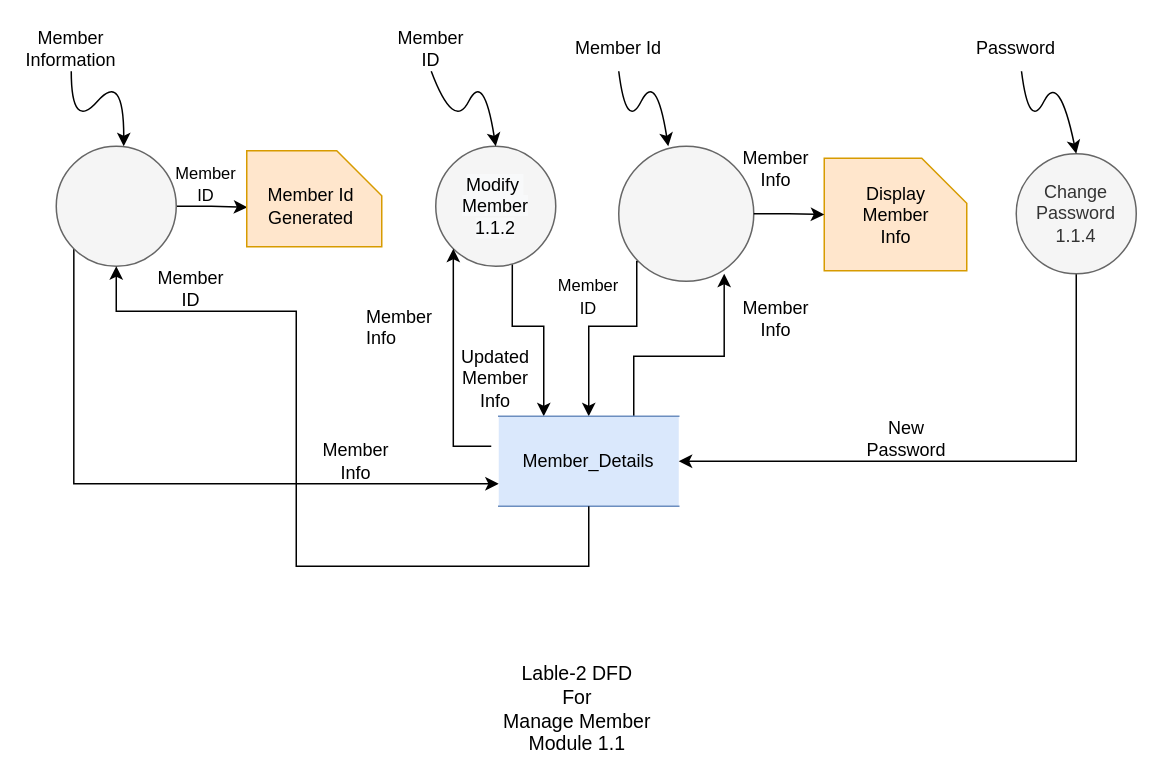
This 1163x780 diagram has some shape labels left out. The shapes that lost their labels are listed below. From the top down, each one's box as (x1, y1, x2, y2) in pixels, then its label:
(55, 145, 176, 266): Add Member 1.1.1
(617, 145, 754, 281): Show Member Details 1.1.3
